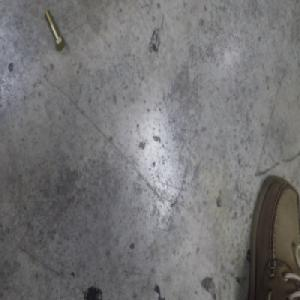Bolt: (44, 9, 65, 52)
